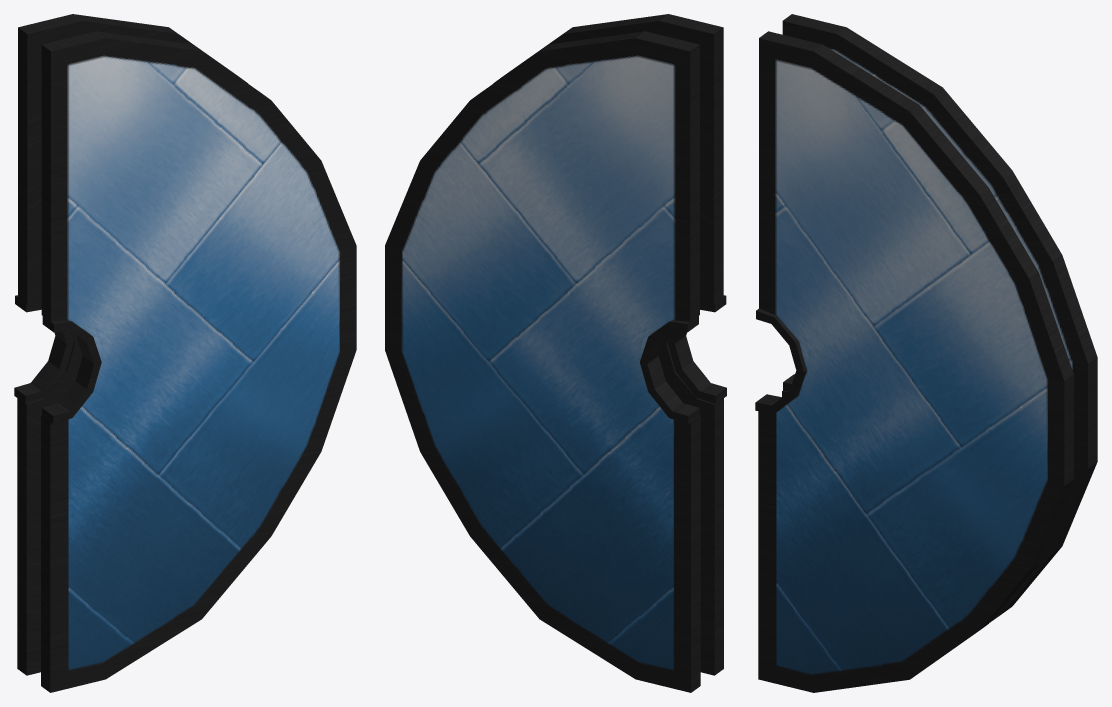
File: portas_1.FBX
3 views of the same model, side by side, from view 1: azimuth 30°, elevation 25°; view 2: azimuth 150°, elevation 25°; view 3: azimuth 330°, elevation 25° (orthographic).
Visible parts, largest first — view 1: Porta 1.2; view 2: Porta 1.2; view 3: Porta 1.2.
Part boxes in pixels (left/top/right/bottom): Porta 1.2: left=14, top=14, right=356, bottom=692; Porta 1.2: left=385, top=14, right=726, bottom=692; Porta 1.2: left=755, top=14, right=1097, bottom=692.
Bounding box in the file's own units: 61.63 × 123 × 13.51.
